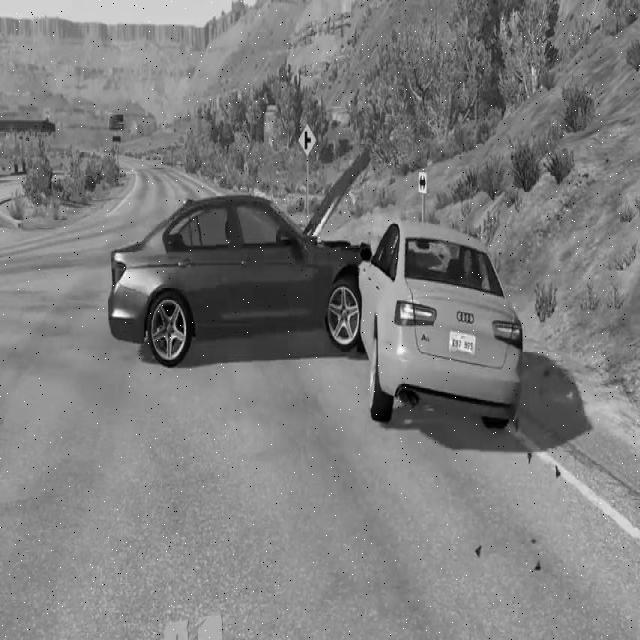low-cars-accident: (90, 172, 546, 445)
